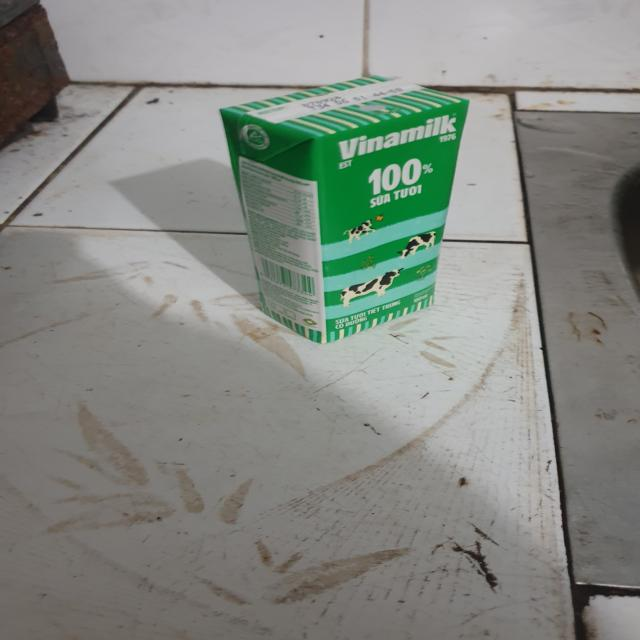Vina: (213, 71, 474, 348)
